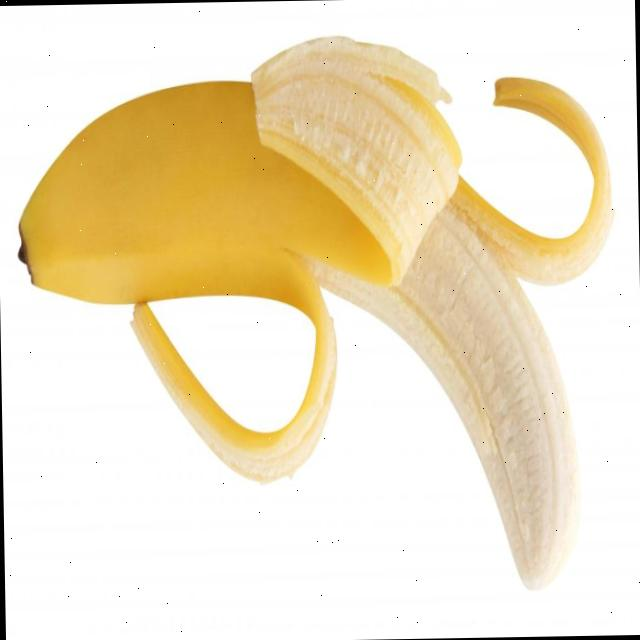Pisang: (13, 31, 620, 602)
